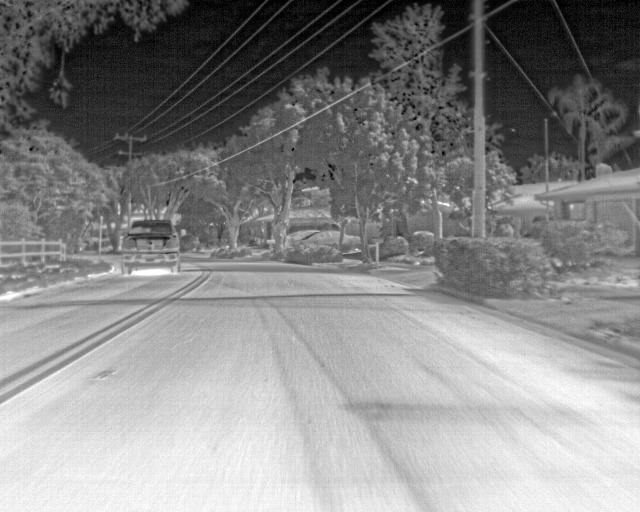vehicle: (123, 219, 180, 278)
